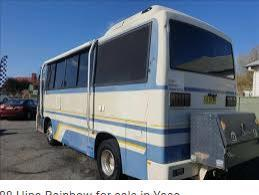bus: (36, 5, 239, 181)
